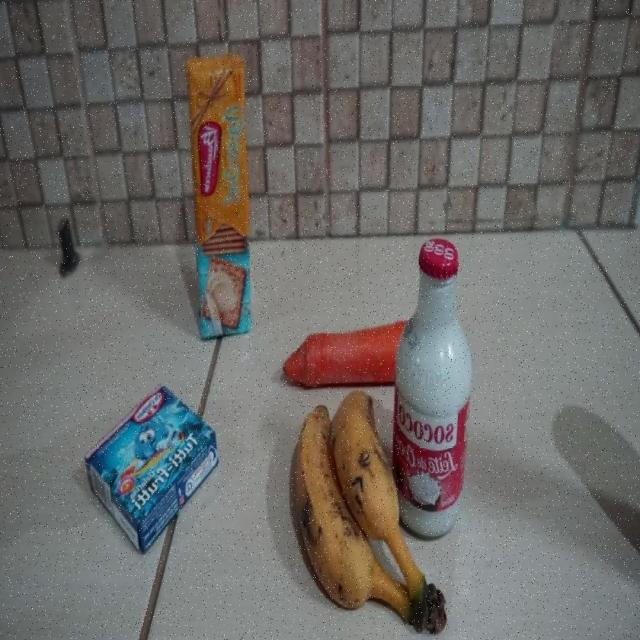Banana: (288, 393, 447, 636)
Carrot: (281, 318, 409, 390)
CoconutMilk: (391, 236, 472, 540)
Cracker: (185, 55, 251, 342)
Gelatine: (84, 381, 220, 559)
